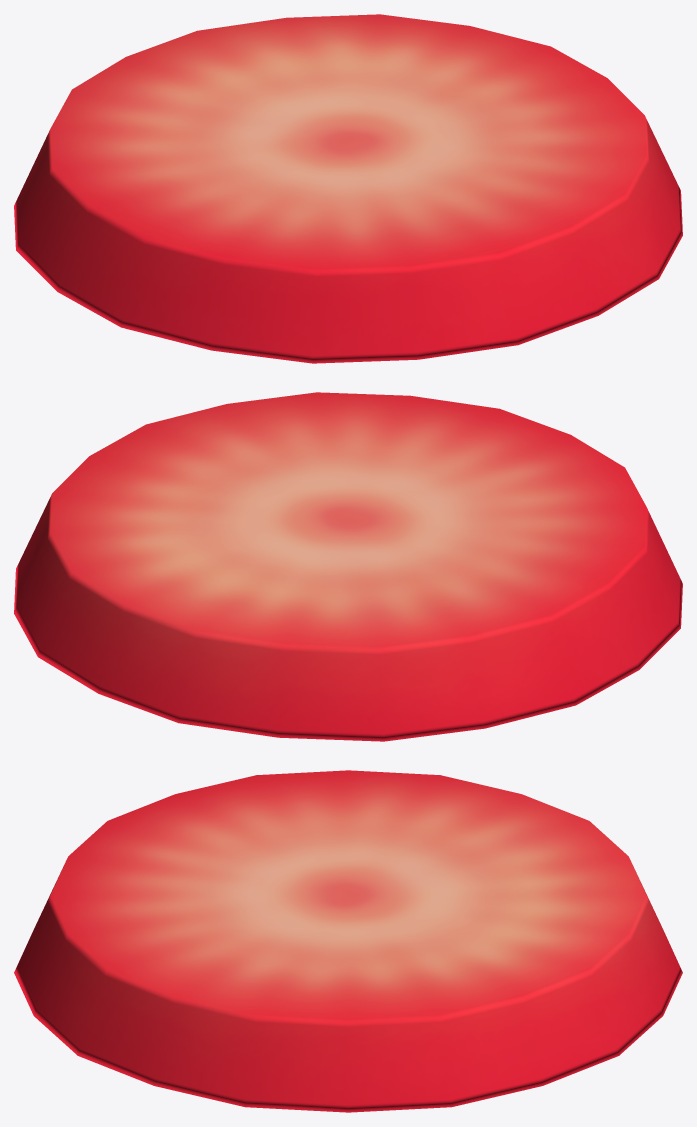
Rendered from Strawberry_top03.fbx.
The picture shows the model from 3 angles, top to bottom: view 1: azimuth 30°, elevation 25°; view 2: azimuth 150°, elevation 25°; view 3: azimuth 270°, elevation 25°; orthographic projection.
Visible parts, largest first — view 1: Strawberry_top; view 2: Strawberry_top; view 3: Strawberry_top.
Part boxes in pixels (x1,y1,x2,y2): Strawberry_top: (14,14,682,363); Strawberry_top: (14,392,682,741); Strawberry_top: (14,770,682,1112).
Size of the model in its own units: 134 by 17.44 by 136.
Materials: 1 (1 with a texture image).
